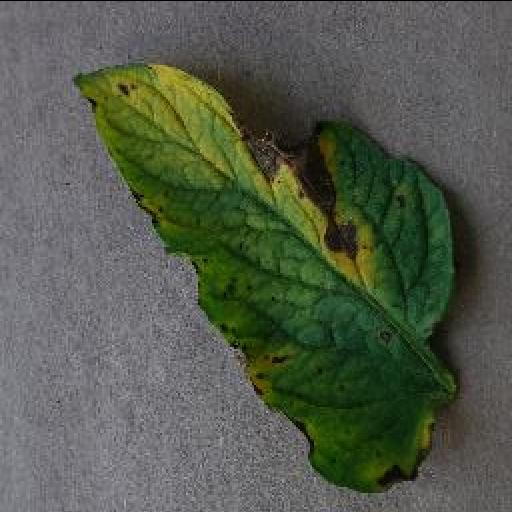disease_tomato: (70, 54, 466, 488)
